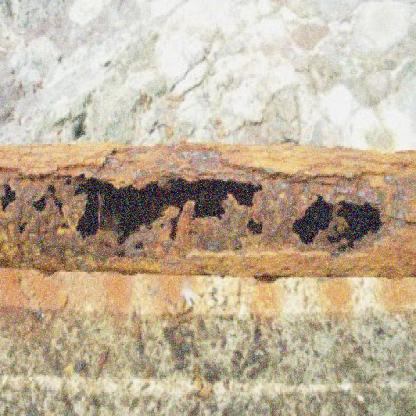burst: (35, 177, 267, 243), (286, 191, 389, 257)
